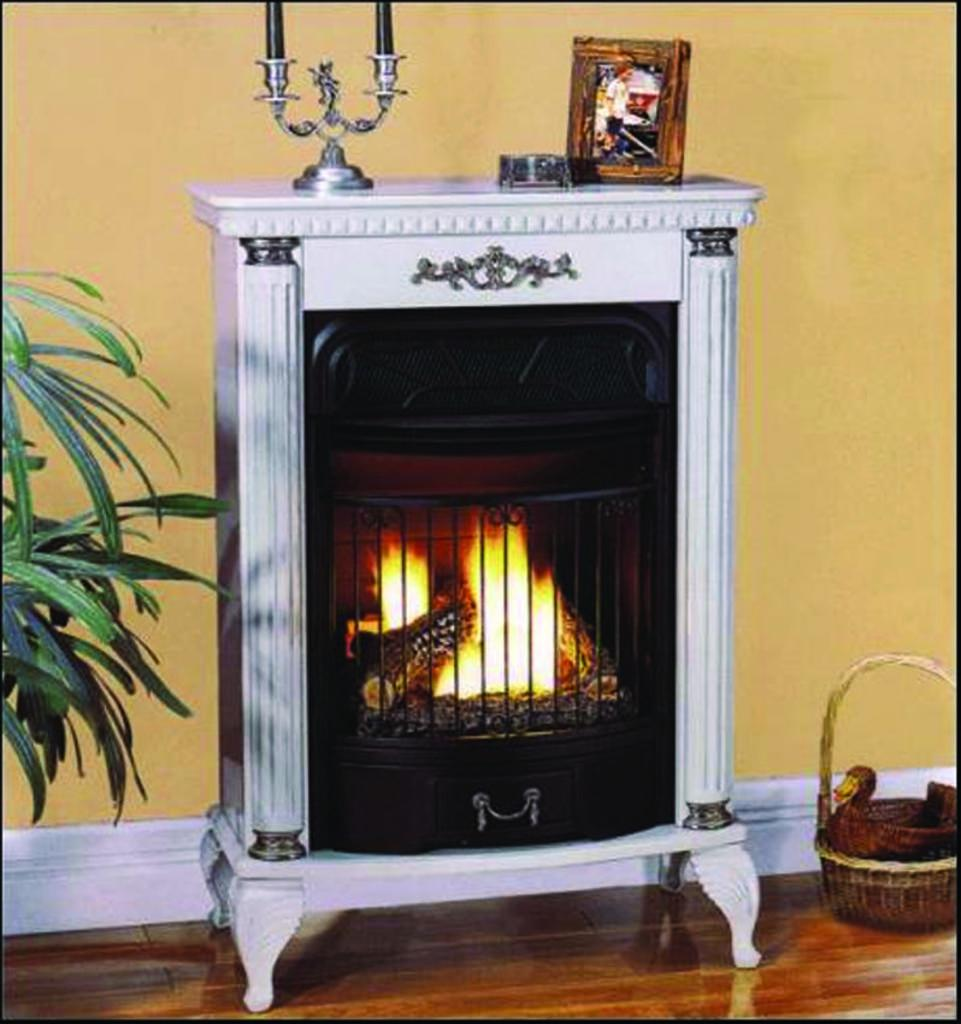fire: (369, 529, 601, 697)
